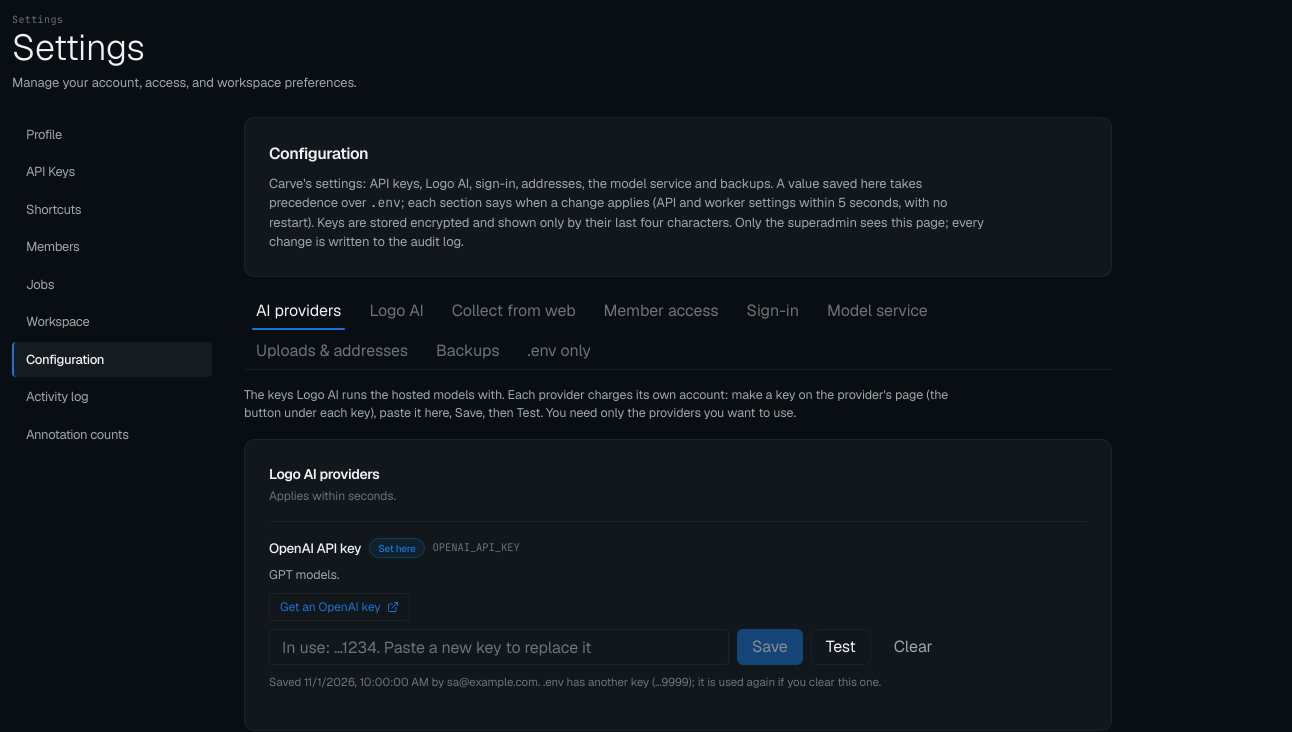
Test: Settings → Configuration › tests a typed key before saving it
Type "sk-typed-0000" into the password field named "OpenAI API key". click: (499, 647)
box: x1=269 y1=629 x2=729 y2=665
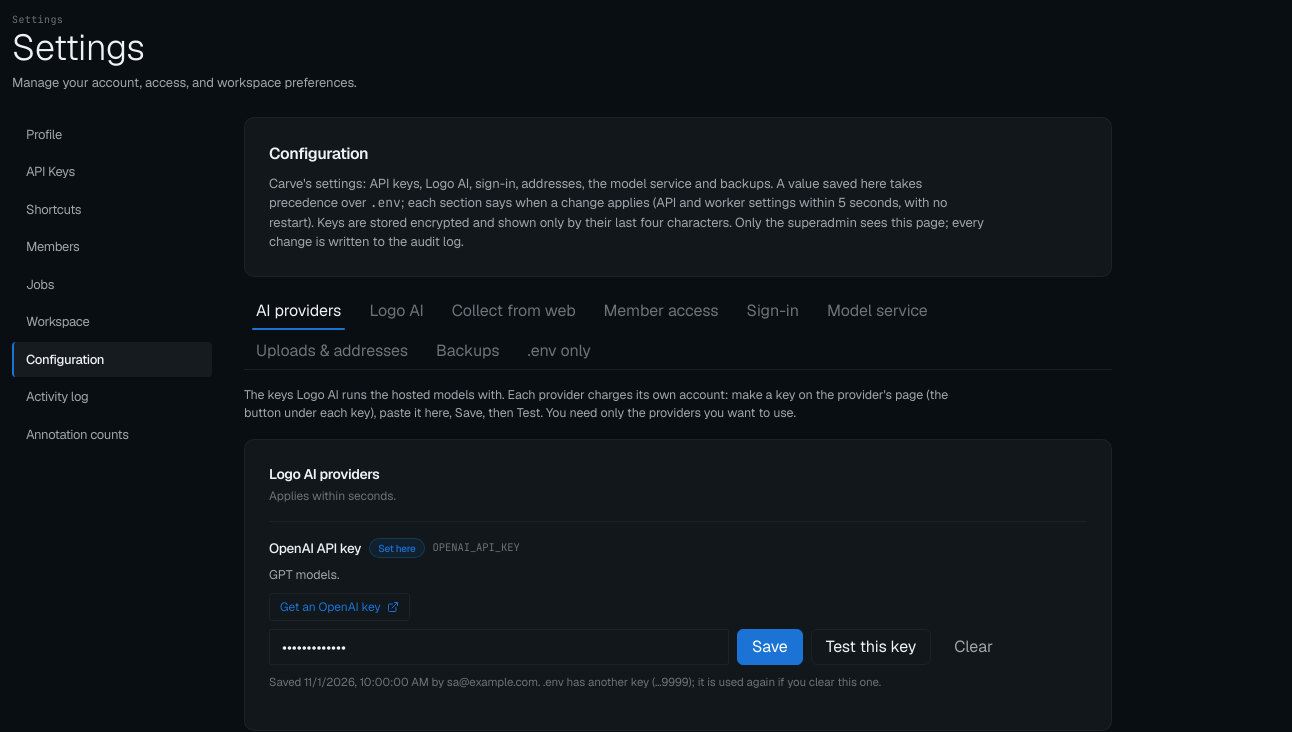
Click the button "Test this key". click: (871, 647)
box: x1=811 y1=629 x2=931 y2=665
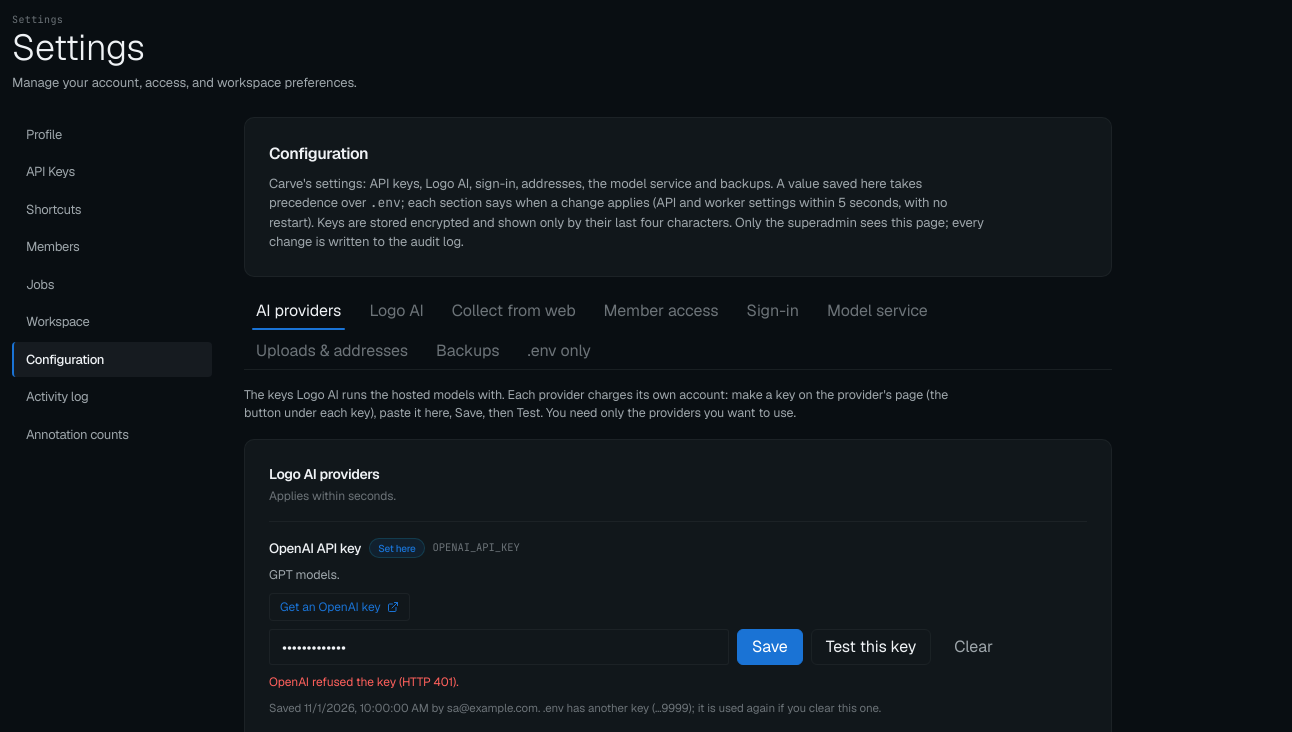
Expected: the text "OpenAI refused the key (HTTP 401)." is shown, x1=269 y1=674 x2=459 y2=690
